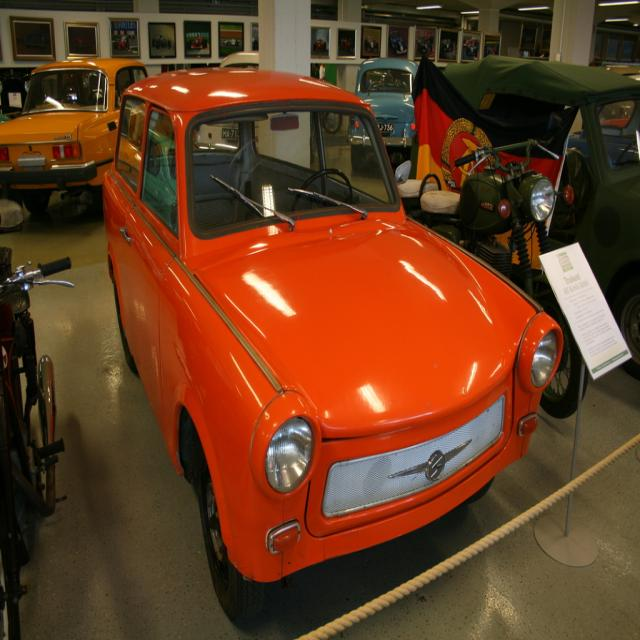car: (101, 69, 566, 619)
